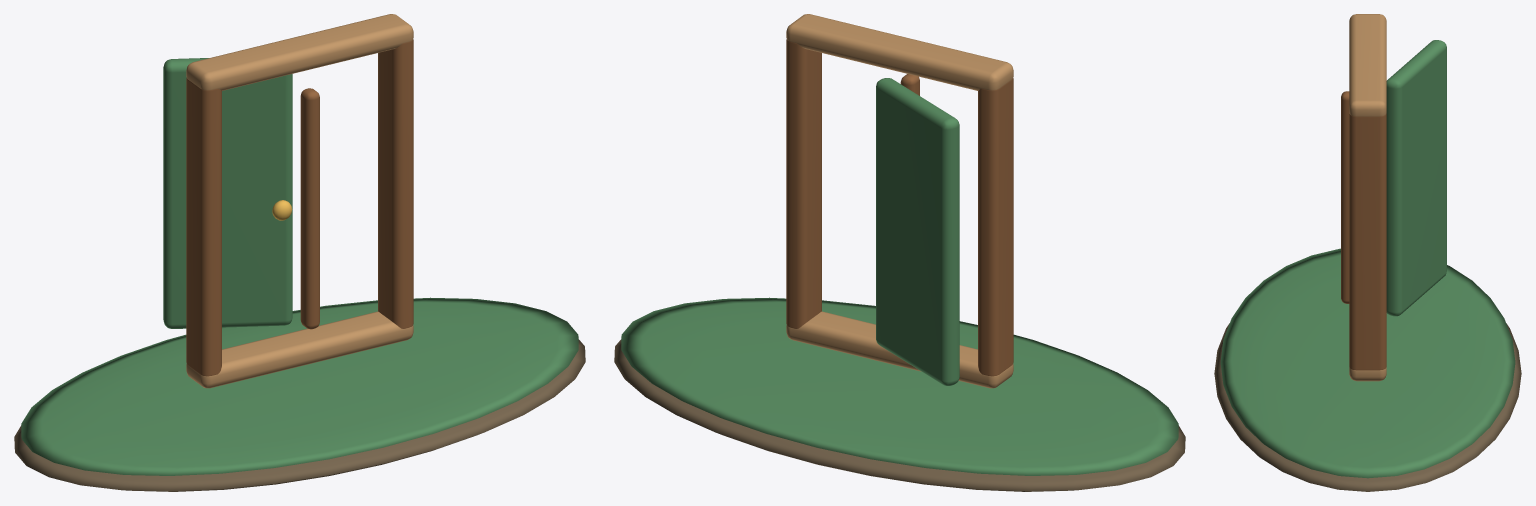
Rendered from middle-gap.glb.
3 renders of one model, left to right at view 1: azimuth 30°, elevation 25°; view 2: azimuth 150°, elevation 25°; view 3: azimuth 270°, elevation 25°, orthographic. The views are drawn at different scales.
Parts seen in each view (by area): view 1: middle-gap_surface_01, middle-gap_surface_02, middle-gap_surface_03, middle-gap_surface_00; view 2: middle-gap_surface_01, middle-gap_surface_02, middle-gap_surface_03, middle-gap_surface_00; view 3: middle-gap_surface_01, middle-gap_surface_02, middle-gap_surface_00, middle-gap_surface_03.
Boxes of the visible parts, <box> form: middle-gap_surface_01: <box>21,58,578,475</box>; middle-gap_surface_02: <box>186,39,413,376</box>; middle-gap_surface_03: <box>186,14,413,388</box>; middle-gap_surface_00: <box>14,339,585,491</box>; middle-gap_surface_01: <box>621,78,1178,475</box>; middle-gap_surface_02: <box>786,39,1013,376</box>; middle-gap_surface_03: <box>786,14,1013,388</box>; middle-gap_surface_00: <box>614,339,1185,491</box>; middle-gap_surface_01: <box>1220,40,1515,478</box>; middle-gap_surface_02: <box>1341,91,1386,370</box>; middle-gap_surface_00: <box>1214,323,1521,491</box>; middle-gap_surface_03: <box>1349,14,1386,381</box>.
Bounding box in the file's own units: 4.56 × 2.97 × 2.5.
